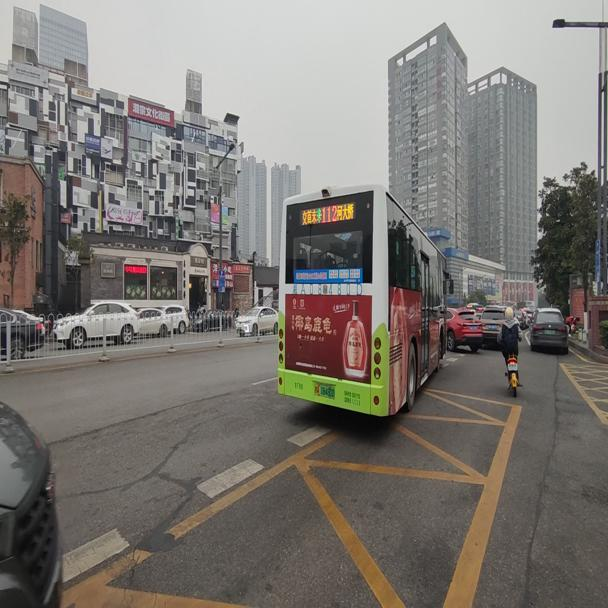bus: (275, 181, 453, 416)
screen: (320, 202, 337, 221)
